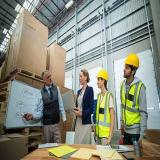Helmet: (123, 51, 140, 68), (95, 68, 109, 82)
Vest: (119, 77, 147, 126), (96, 92, 114, 140)
